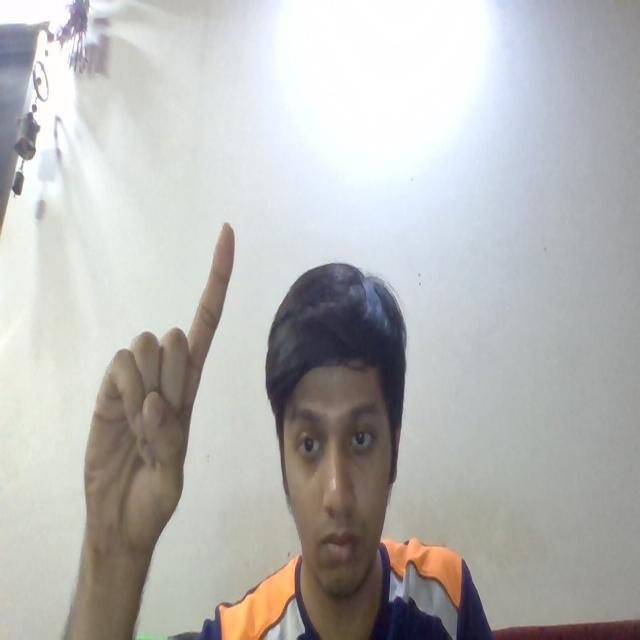Z: (59, 203, 247, 566)
